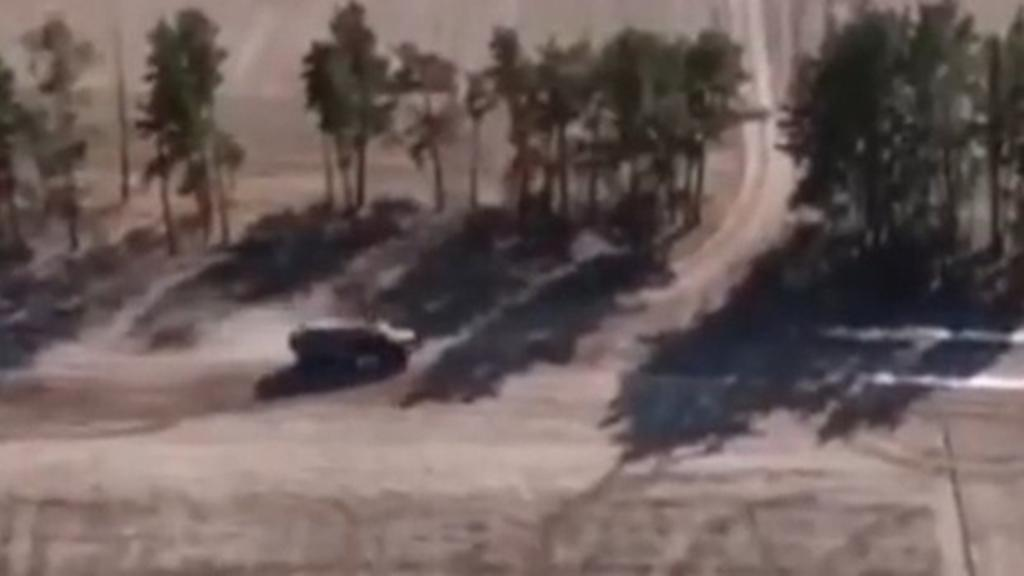TRUCK: (282, 310, 424, 374)
